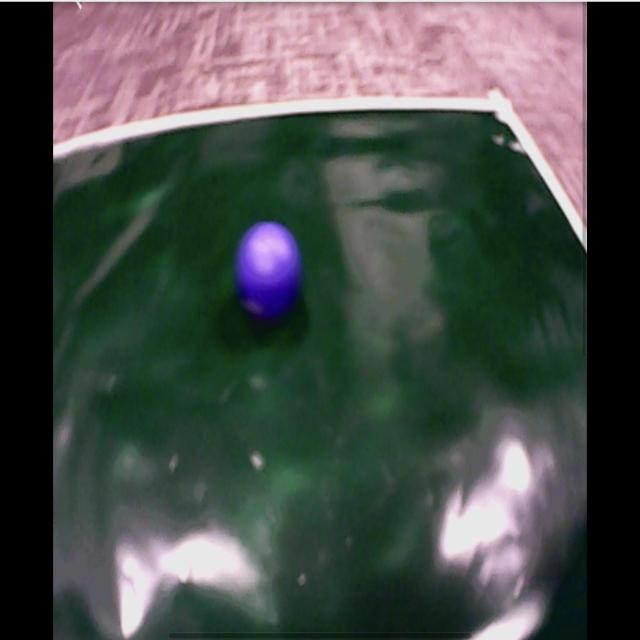ball: (240, 222, 300, 314)
